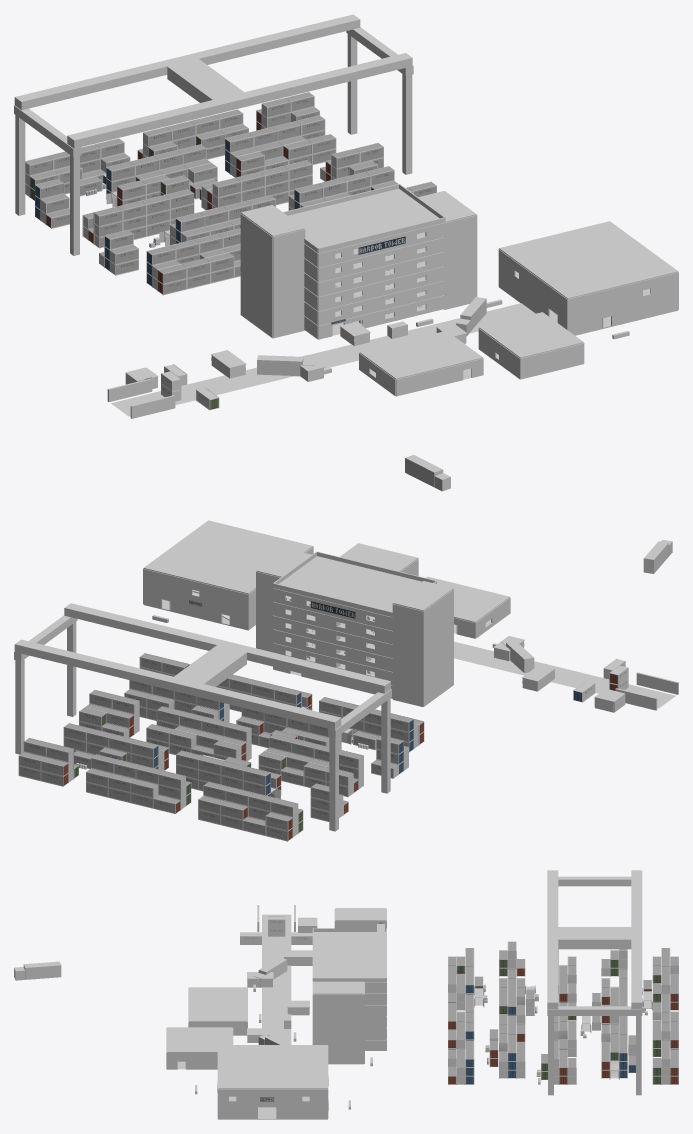
The model's file is harbor_plaza.glb.
3 renders of one model, top to bottom at view 1: azimuth 30°, elevation 25°; view 2: azimuth 150°, elevation 25°; view 3: azimuth 270°, elevation 25°, orthographic. The views are drawn at different scales.
Visible parts, largest first — view 1: harbor_plaza; view 2: harbor_plaza; view 3: harbor_plaza.
Part boxes in pixels (box(x1,y1,x2,y2)): harbor_plaza: box(14, 14, 678, 491); harbor_plaza: box(14, 520, 678, 841); harbor_plaza: box(14, 870, 678, 1119).
Size of the model in its own units: 132 by 28.25 by 182.
3 materials, 2 textured.
